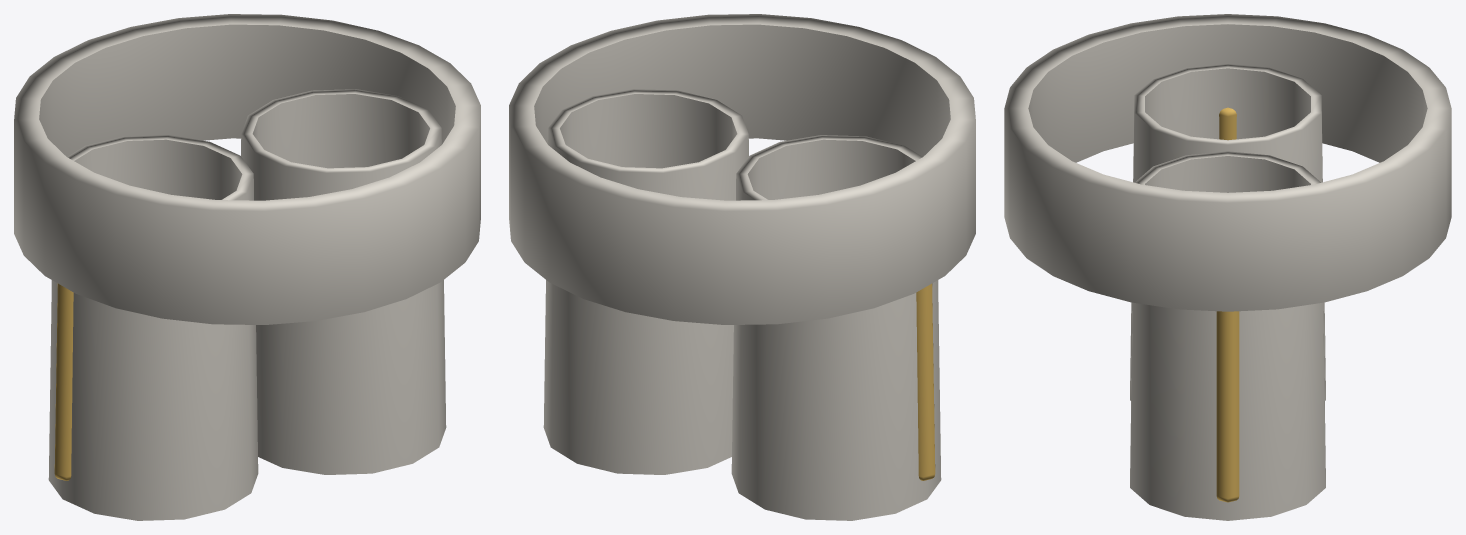
File: dance_warm_up_pants.glb
The picture shows the model from 3 angles, left to right: view 1: azimuth 30°, elevation 25°; view 2: azimuth 150°, elevation 25°; view 3: azimuth 270°, elevation 25°; orthographic projection. The views are drawn at different scales.
Visible parts, largest first — view 1: dance_warm_up_pants_Body, dance_warm_up_pants_LegL, dance_warm_up_pants_LegR; view 2: dance_warm_up_pants_Body, dance_warm_up_pants_LegL, dance_warm_up_pants_LegR; view 3: dance_warm_up_pants_Body, dance_warm_up_pants_LegR, dance_warm_up_pants_LegL.
Part boxes in pixels (<box>): dance_warm_up_pants_Body: <box>14,14,480,324</box>; dance_warm_up_pants_LegL: <box>48,135,258,520</box>; dance_warm_up_pants_LegR: <box>241,89,446,474</box>; dance_warm_up_pants_Body: <box>509,14,975,324</box>; dance_warm_up_pants_LegL: <box>731,135,941,520</box>; dance_warm_up_pants_LegR: <box>543,89,748,474</box>; dance_warm_up_pants_Body: <box>1004,14,1451,311</box>; dance_warm_up_pants_LegR: <box>1130,151,1325,520</box>; dance_warm_up_pants_LegL: <box>1130,63,1325,400</box>.
Size of the model in its own units: 0.41 by 0.33 by 0.41.
